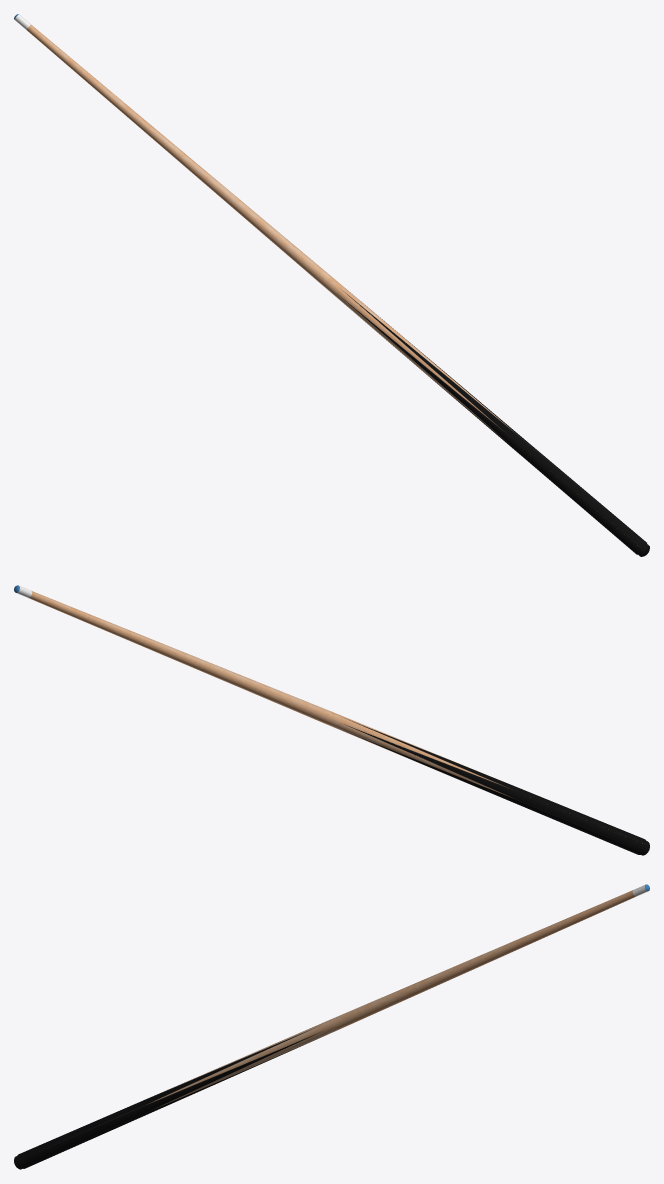
The model's file is cc0_-_cue_stick (2).glb.
The picture shows the model from 3 angles, top to bottom: view 1: azimuth 90°, elevation 25°; view 2: azimuth 150°, elevation 25°; view 3: azimuth 270°, elevation 25°; orthographic projection. The views are drawn at different scales.
Visible parts, largest first — view 1: CueStick; view 2: CueStick; view 3: CueStick.
Boxes of the visible parts, x1,y1,x2,y2 form: CueStick: (14, 14, 649, 556); CueStick: (14, 585, 649, 855); CueStick: (14, 884, 649, 1169).
Bounding box in the file's own units: 0.5442 × 0.7825 × 1.09.
Materials: 1 (1 with a texture image).
